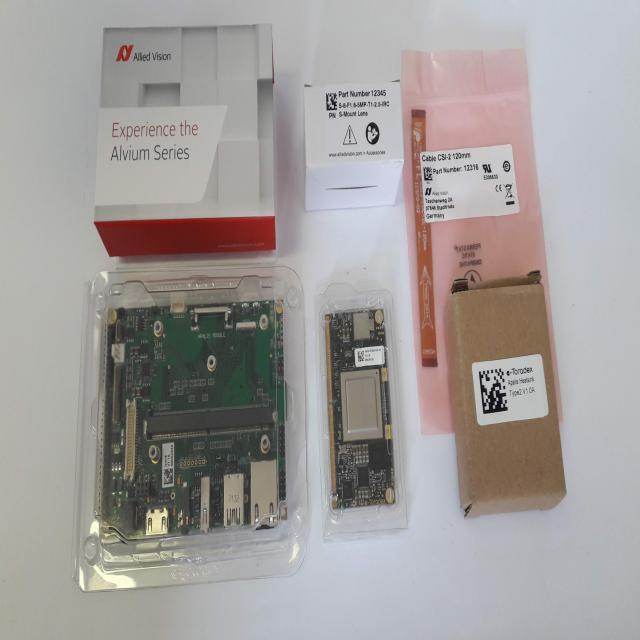som: (316, 295, 408, 523)
